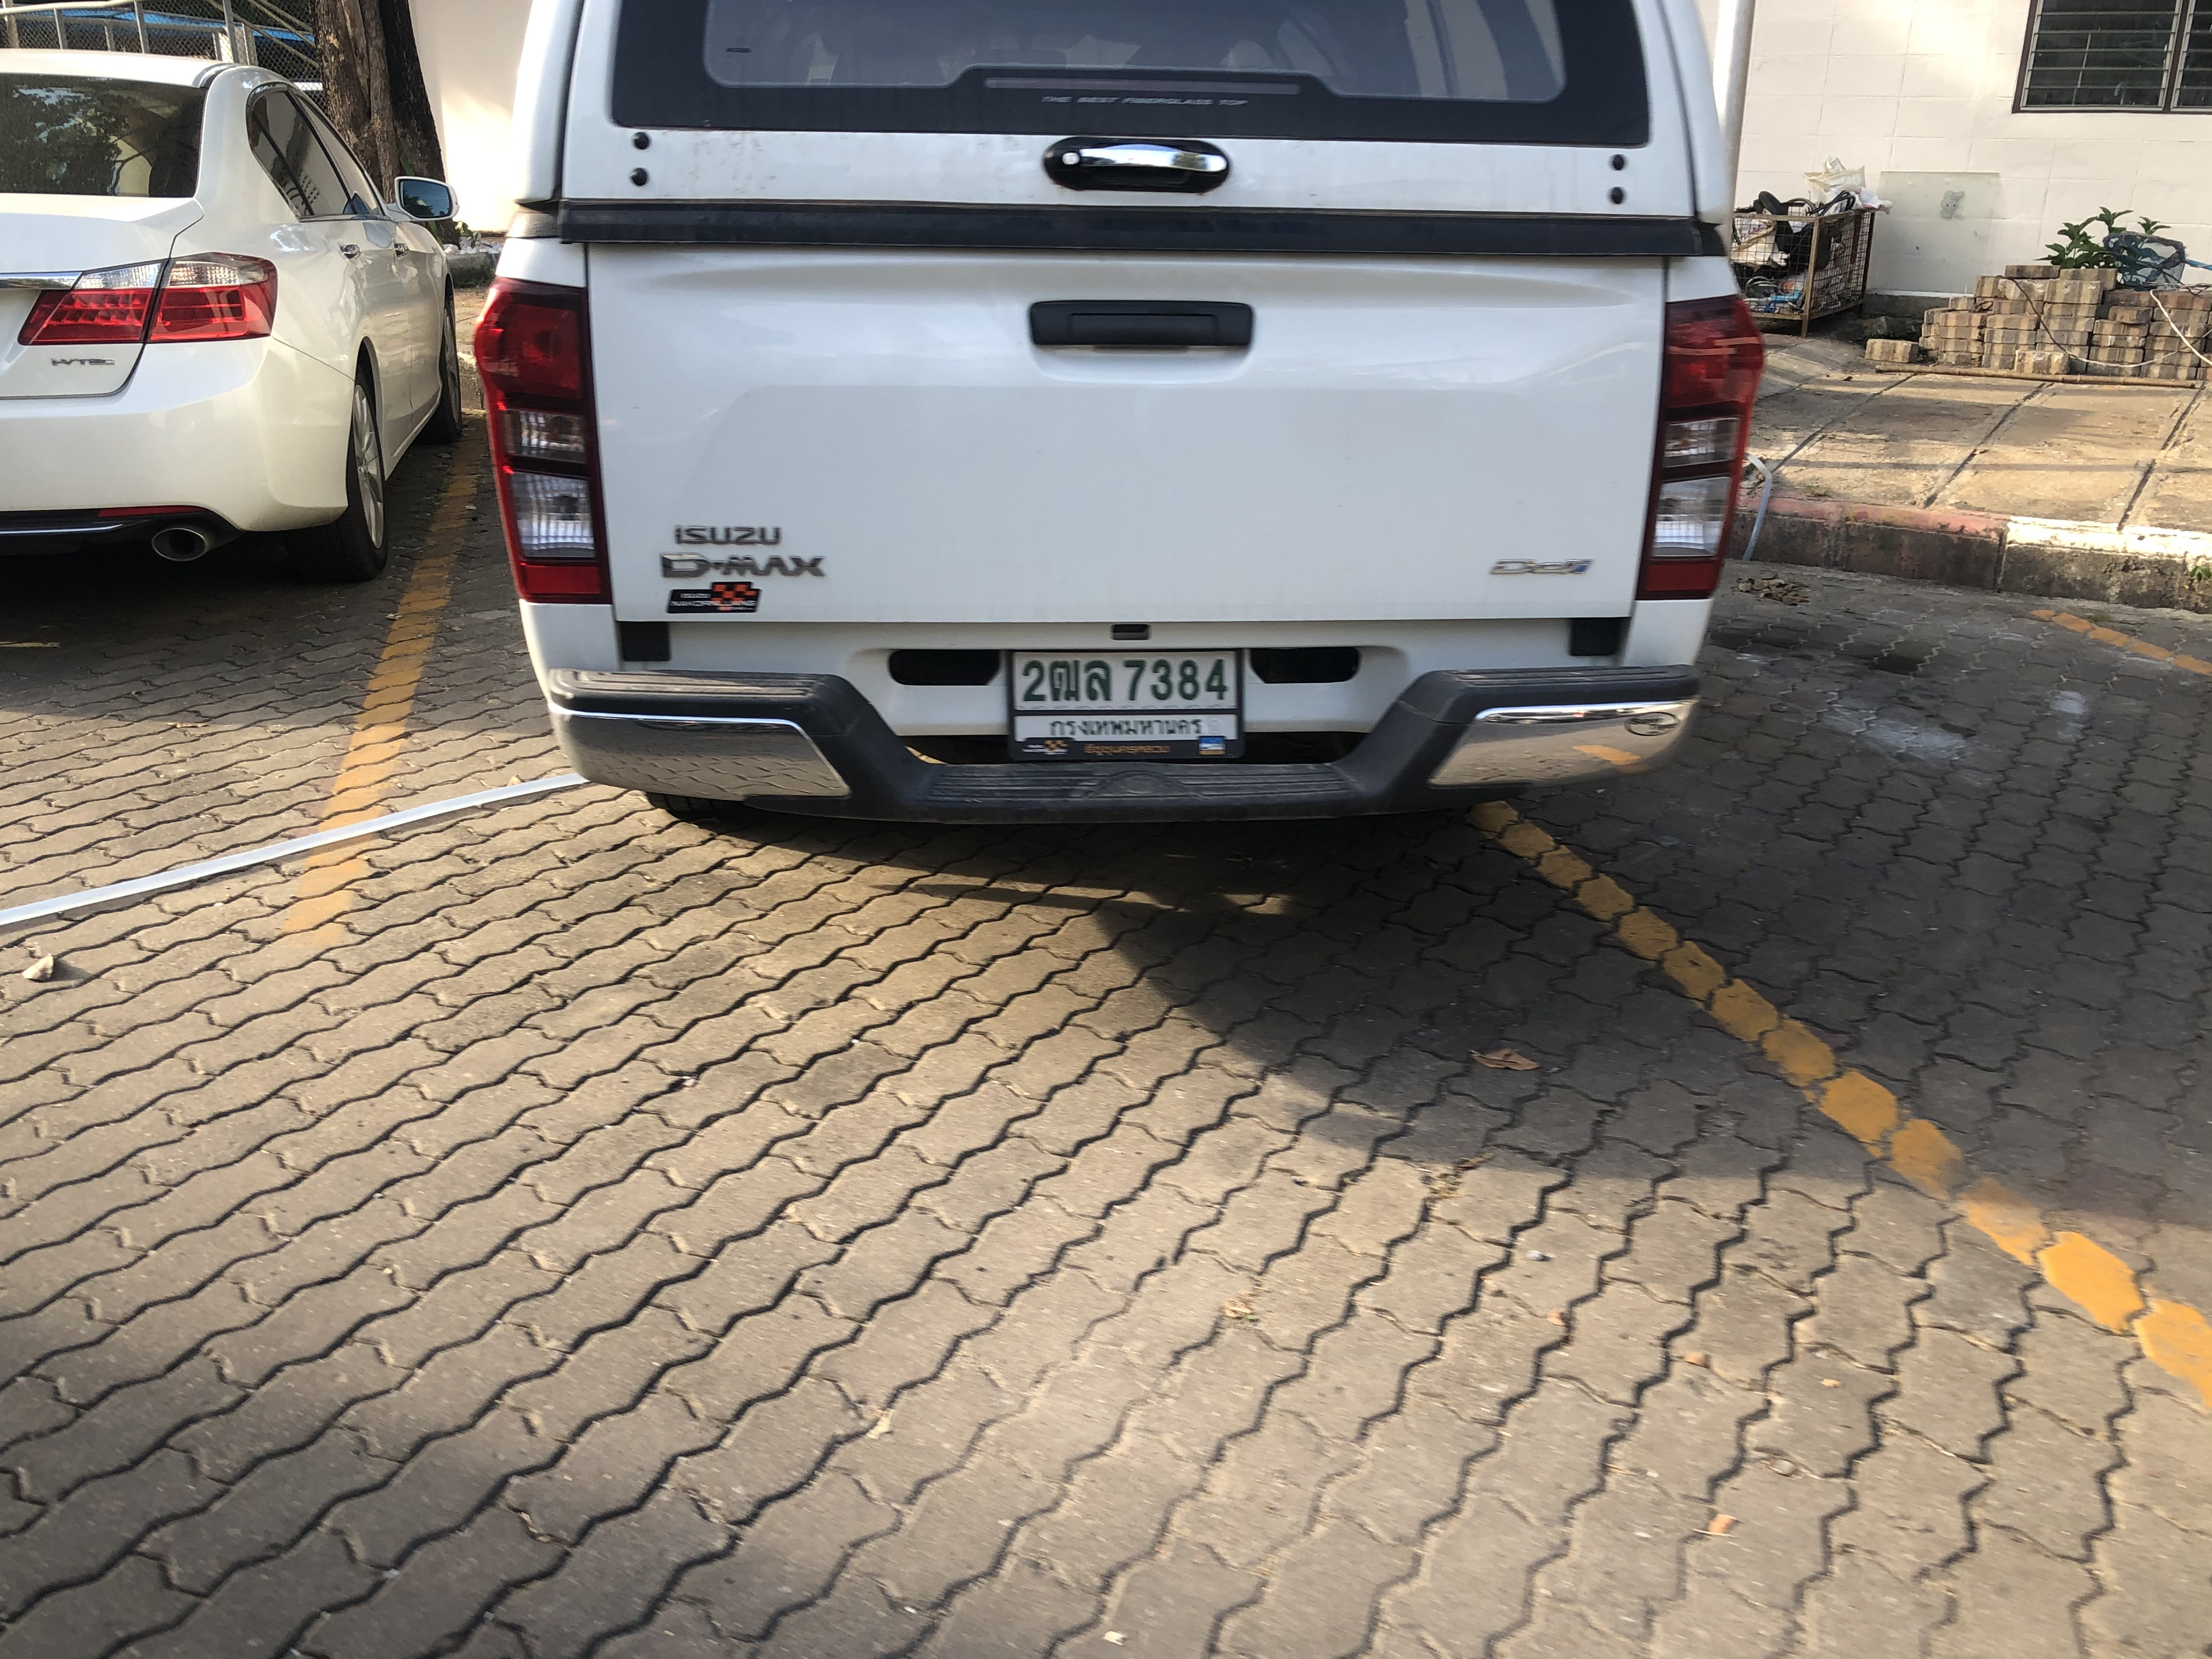in: (1014, 655, 1238, 744)
out: (1001, 641, 1252, 763)
